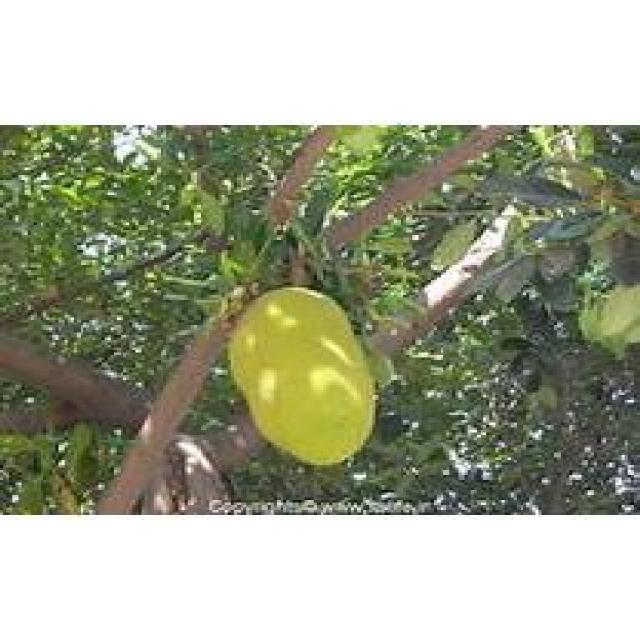Fruit: (200, 265, 403, 483)
